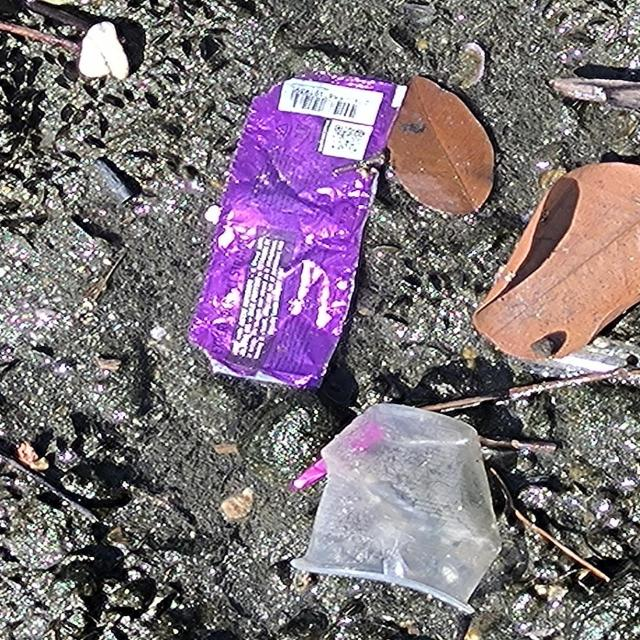plastic_waste: (188, 68, 409, 389), (288, 403, 506, 615)
